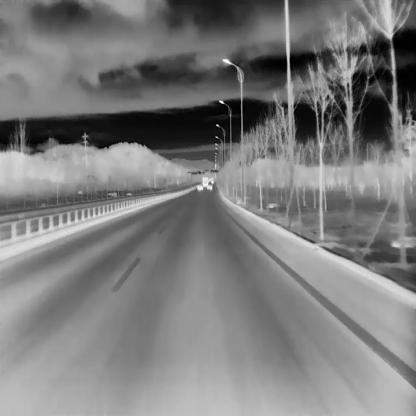car: (202, 176, 208, 186), (197, 184, 202, 189), (207, 184, 212, 189)
